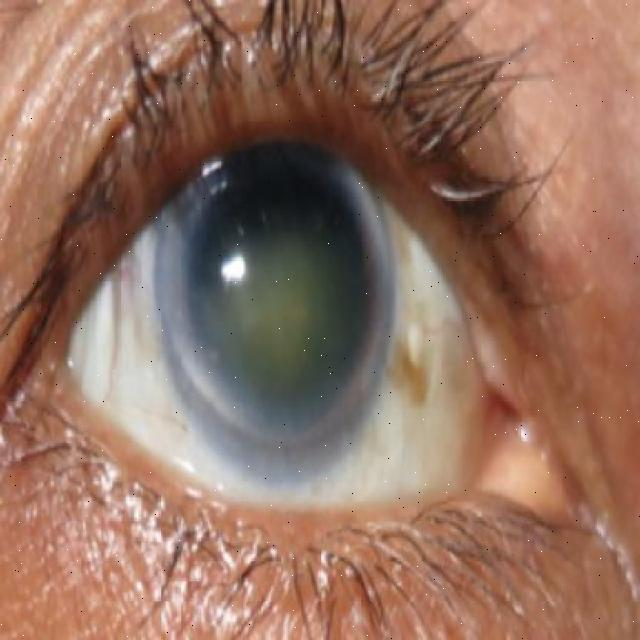Cataract: (152, 113, 397, 440)
